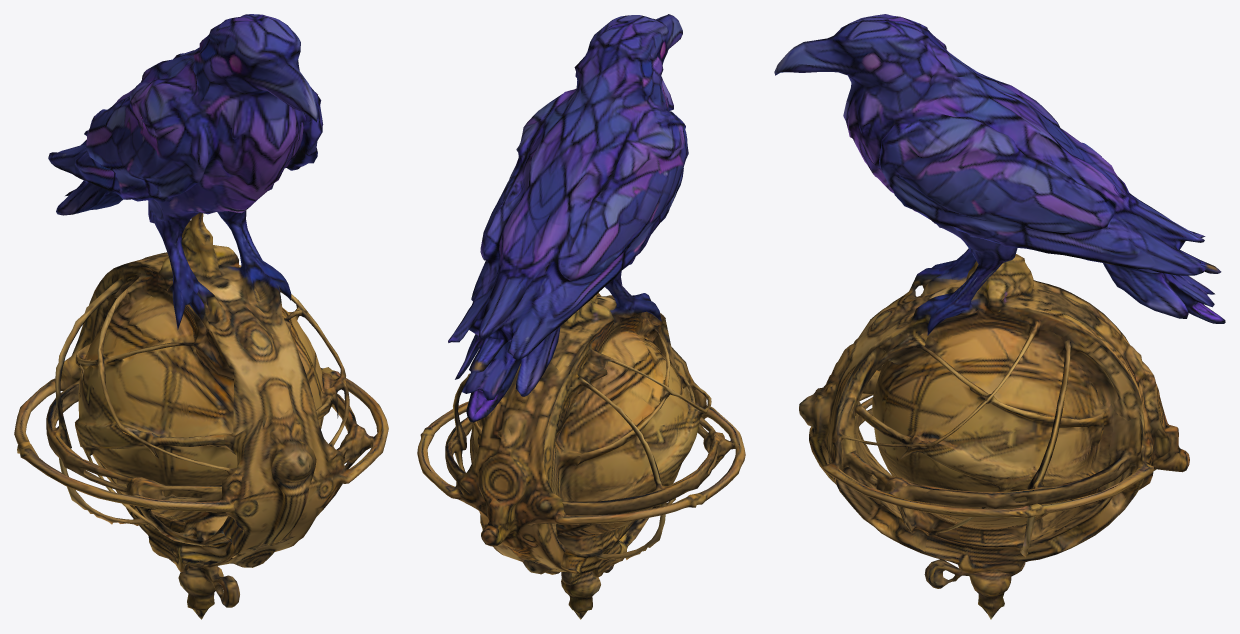
File: Origami_Crow.glb
3 renders of one model, left to right at view 1: azimuth 30°, elevation 25°; view 2: azimuth 150°, elevation 25°; view 3: azimuth 270°, elevation 25°, orthographic. The views are drawn at different scales.
Visible parts, largest first — view 1: RavenOnArmillarySphere; view 2: RavenOnArmillarySphere; view 3: RavenOnArmillarySphere.
Part boxes in pixels (box(x1,y1,x2,y2)): RavenOnArmillarySphere: box(14, 14, 388, 619); RavenOnArmillarySphere: box(417, 14, 745, 619); RavenOnArmillarySphere: box(774, 14, 1225, 619).
Bounding box in the file's own units: 0.2915 × 0.55 × 0.3756.
Materials: 1 (1 with a texture image).
